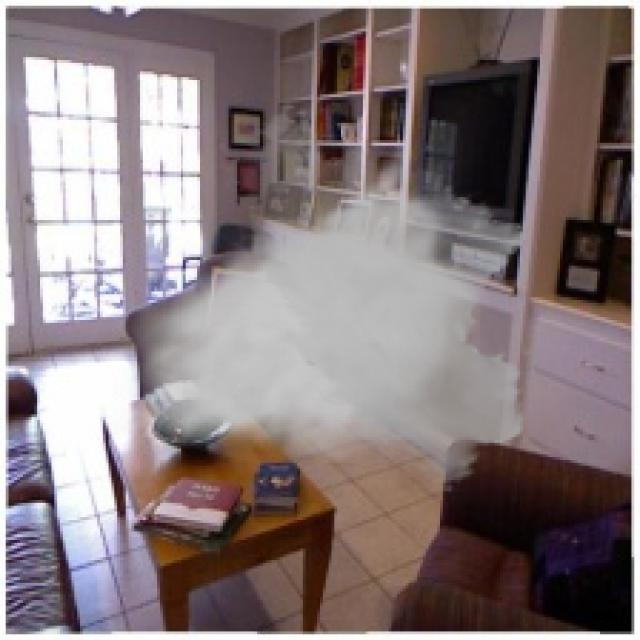smoke: (112, 100, 537, 494)
